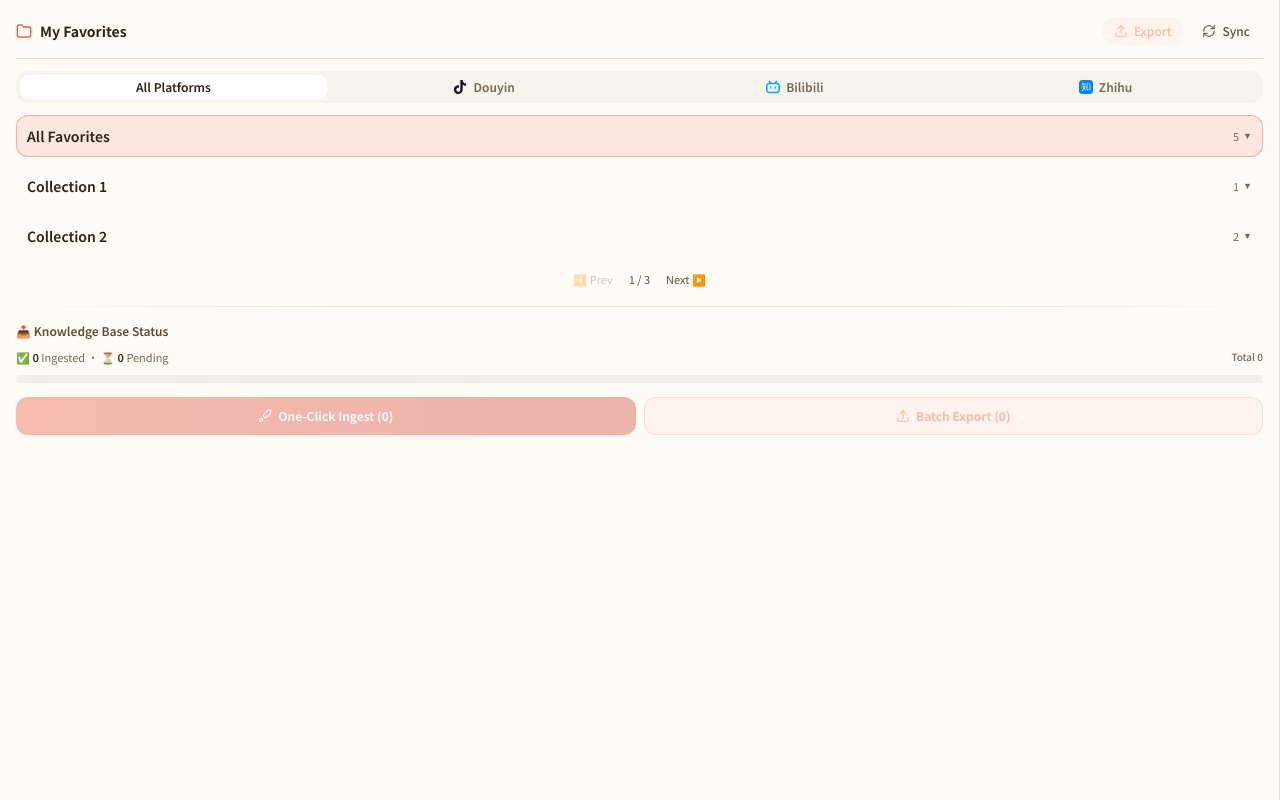
Scenario: SourcesPanel collections list & pagination › paginates real collections, with the "all" row pinned and excluded from paging
Expected: the text "All Favorites" is shown, x1=27 y1=126 x2=110 y2=146
Expected: the text "Collection 1" is shown, x1=27 y1=176 x2=107 y2=196
Click the button "Next ▶" at (686, 279), box x1=658 y1=269 x2=714 y2=290
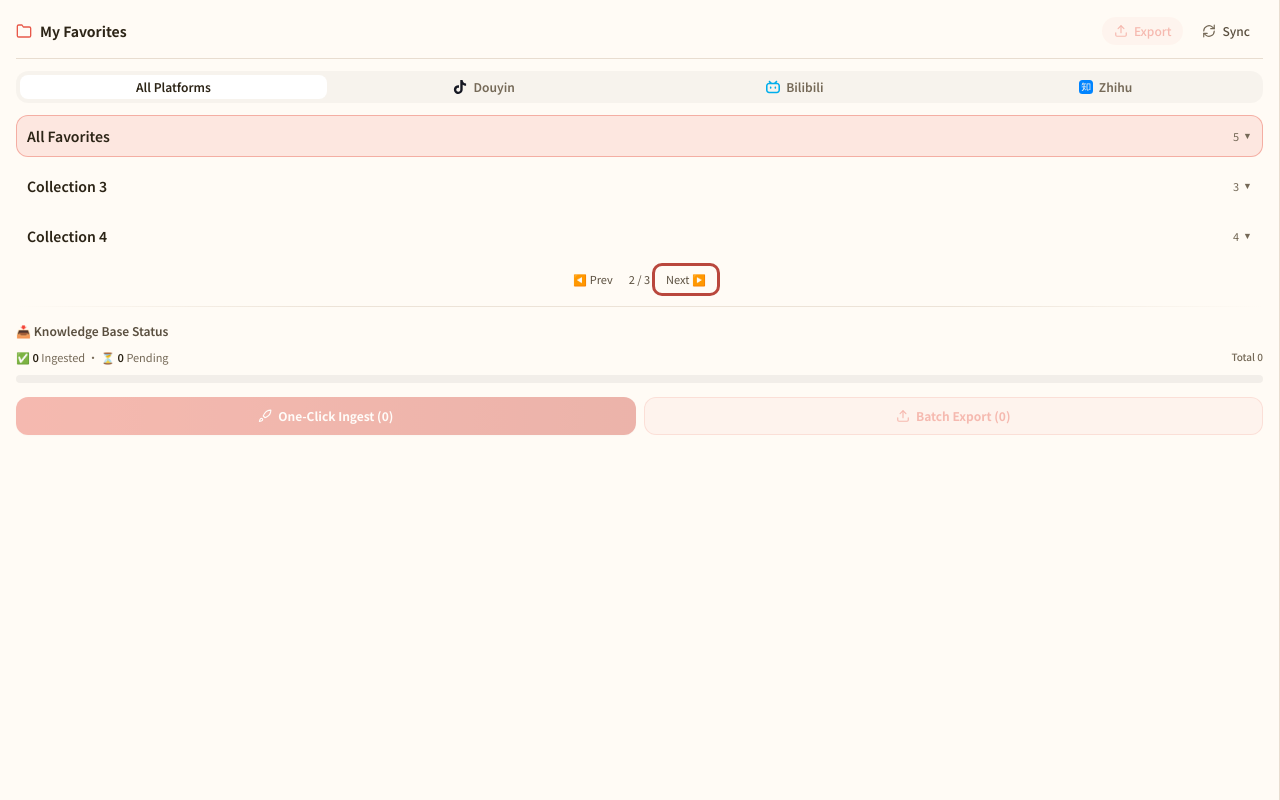
Expected: the text "Collection 3" is shown, x1=27 y1=176 x2=107 y2=196
Expected: the text "Collection 4" is shown, x1=27 y1=226 x2=107 y2=246
Expected: the button "Collection 1" is gone
Click the button "Next ▶" at (686, 279), box x1=658 y1=269 x2=714 y2=290
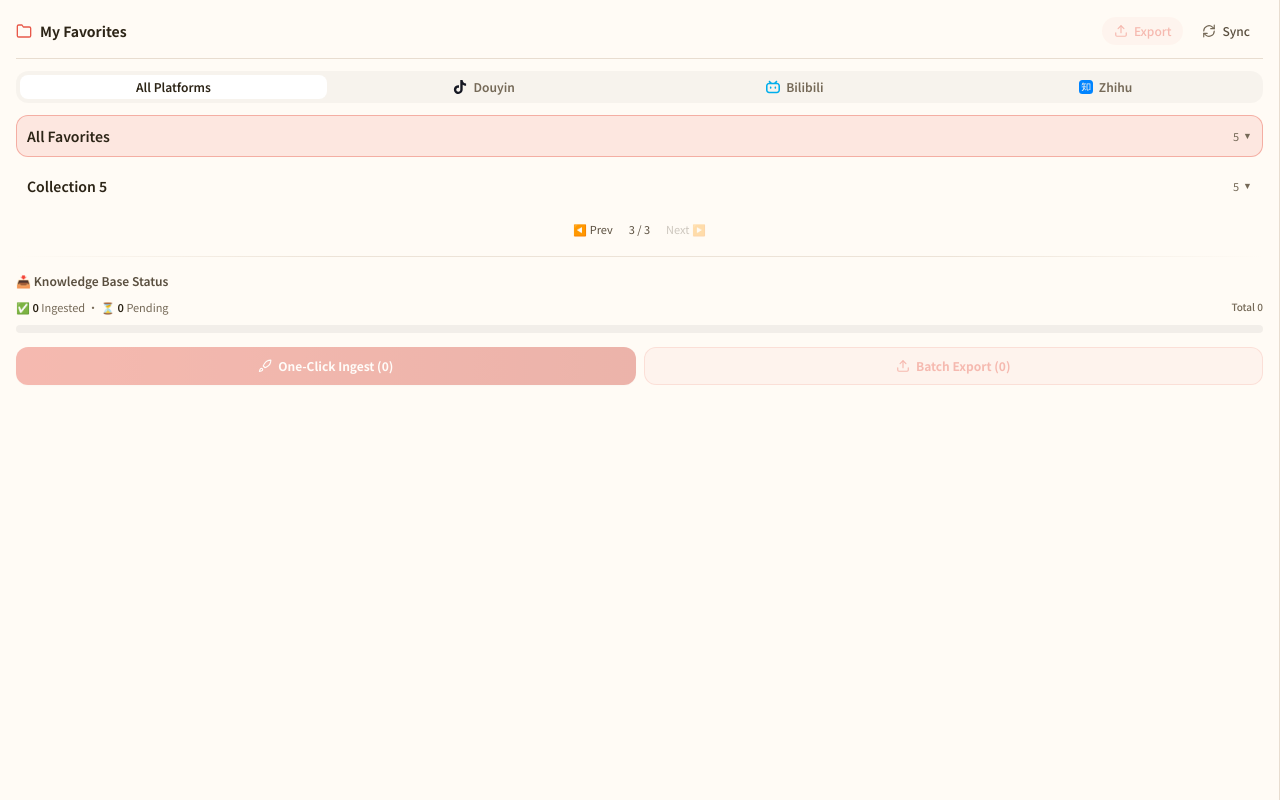
Expected: the text "Collection 5" is shown, x1=27 y1=176 x2=107 y2=196
Expected: the button "Next ▶" is disabled, x1=658 y1=219 x2=714 y2=240
